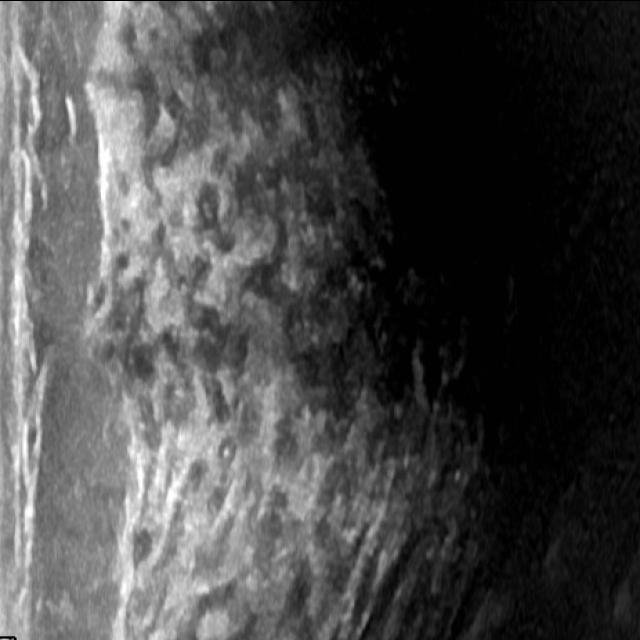Normal: (45, 35, 579, 602)
